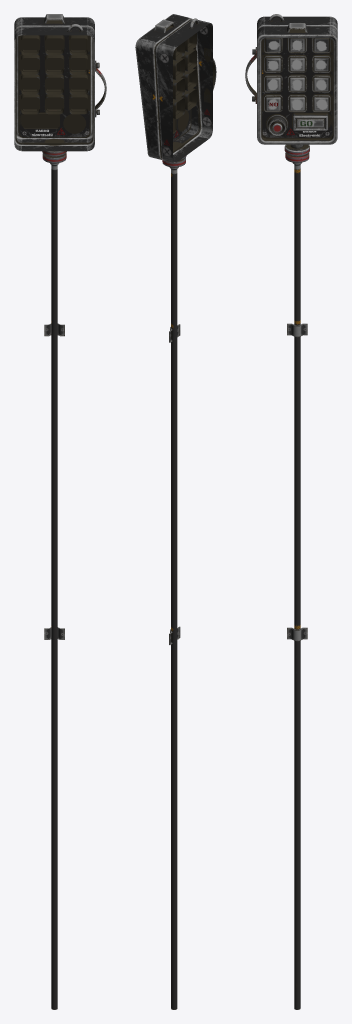
File: electric_door_key_-_5mb.glb
The picture shows the model from 3 angles, left to right: view 1: azimuth 90°, elevation 25°; view 2: azimuth 150°, elevation 25°; view 3: azimuth 270°, elevation 25°; orthographic projection.
Size of the model in its own units: 0.0693 by 1.72 by 0.1452.
Materials: 1 (1 with a texture image).
